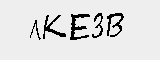В: (105, 9, 126, 40)
Е: (67, 9, 92, 44)
З: (90, 10, 105, 40)
К: (39, 10, 68, 43)
Л: (27, 13, 42, 45)
